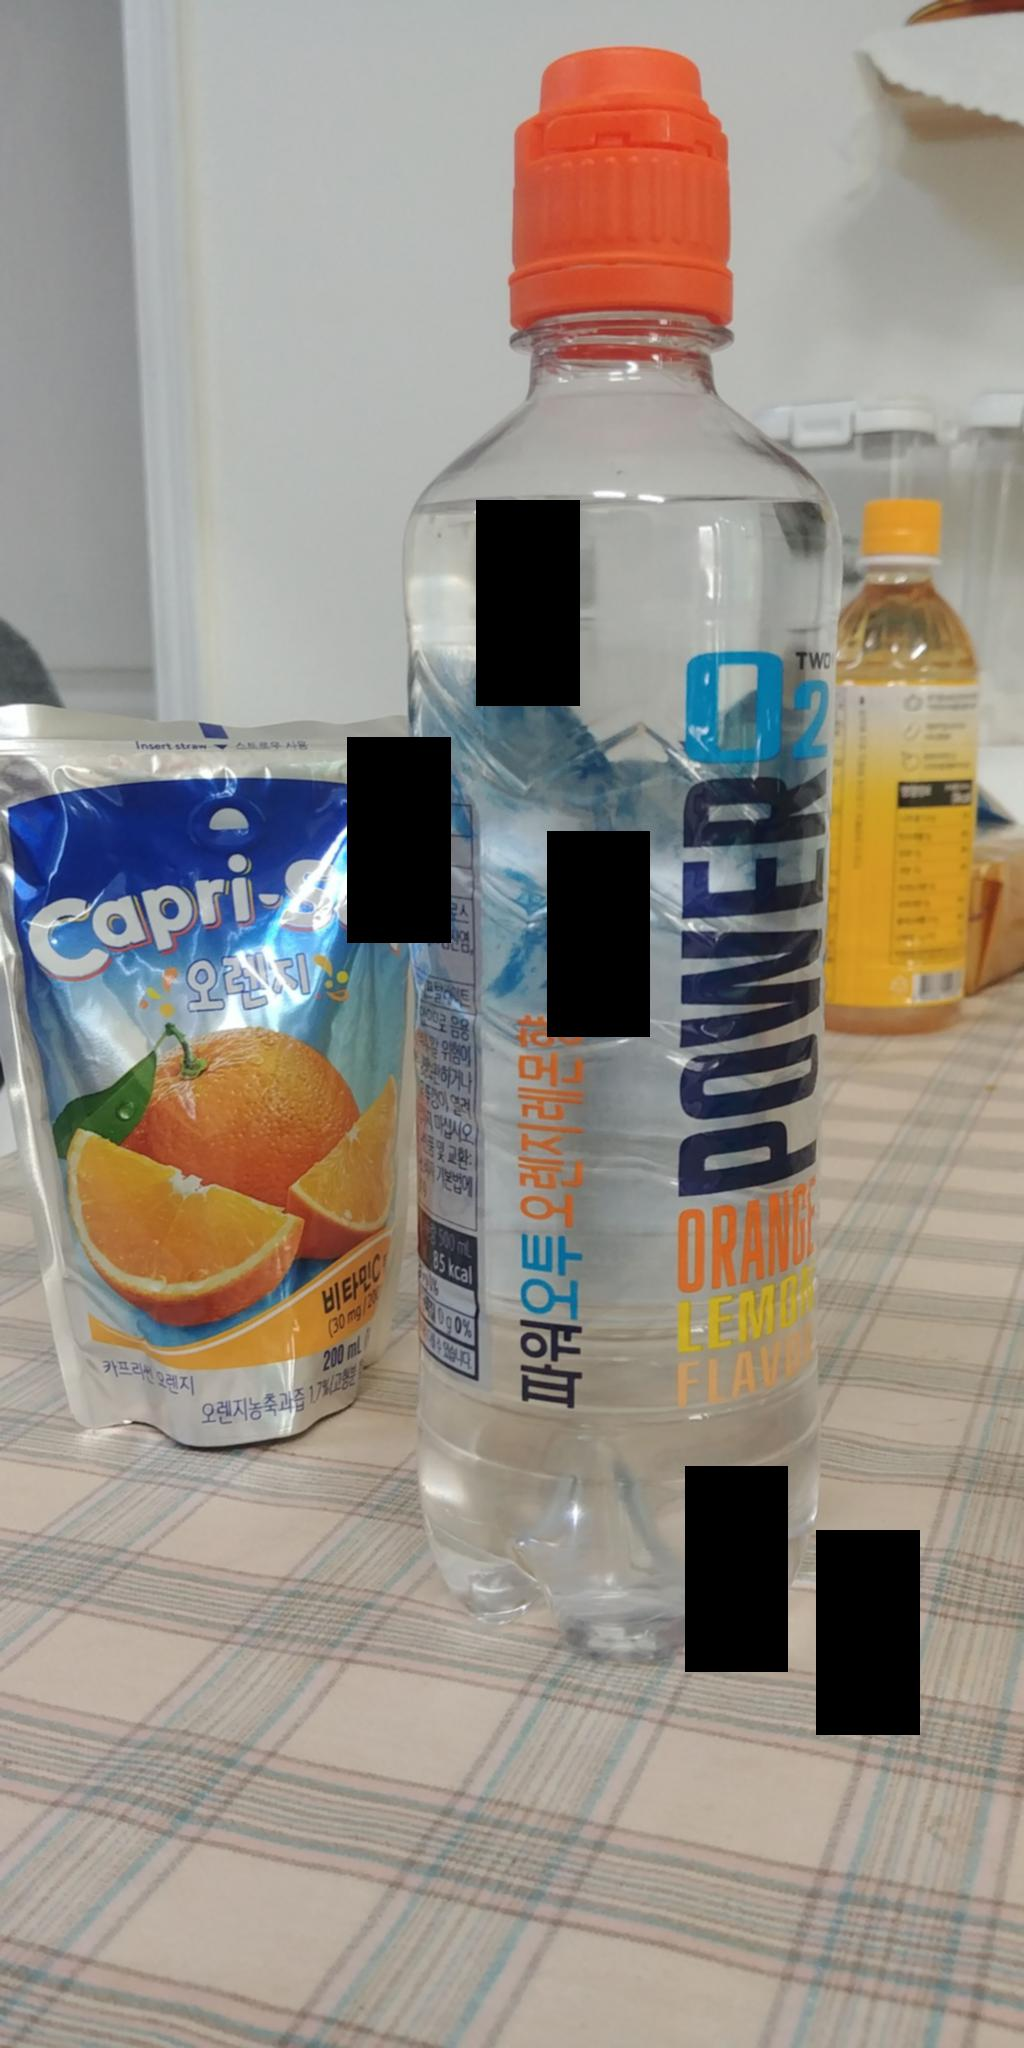cafrisun: (0, 686, 423, 1445)
powerO2_orange: (406, 50, 853, 1651)
